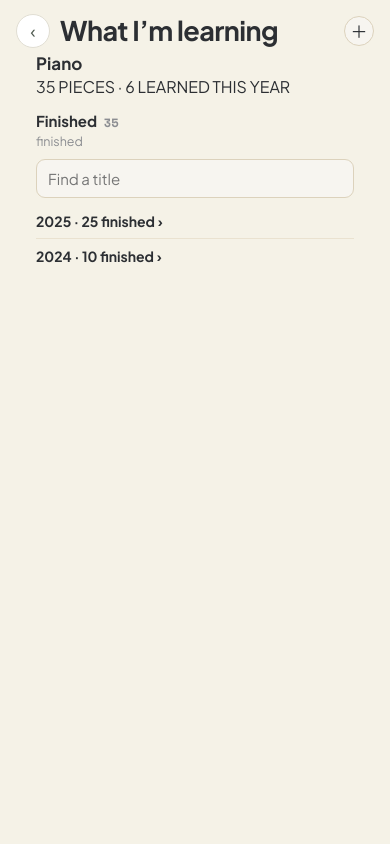
Test case: a books shelf, 200 long (P8) › the find field filters across every year, bypassing the buckets entirely
The width and height of the screenshot is (390, 844).
Type "2024 Book 3" into the field labelled "Find a title".
click(195, 178); type("2024 Book 3")  # box [36,158,354,198]
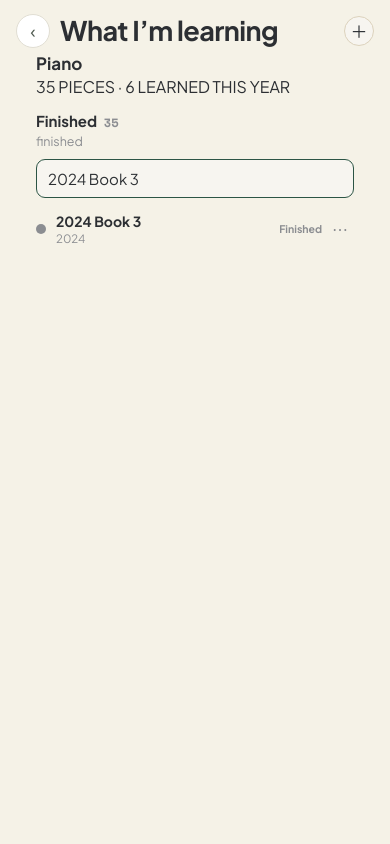
expect the text "2024 Book 3" is shown: met, box [56,212,141,230]
expect the button "2025 · 25 finished ›" is gone: met
